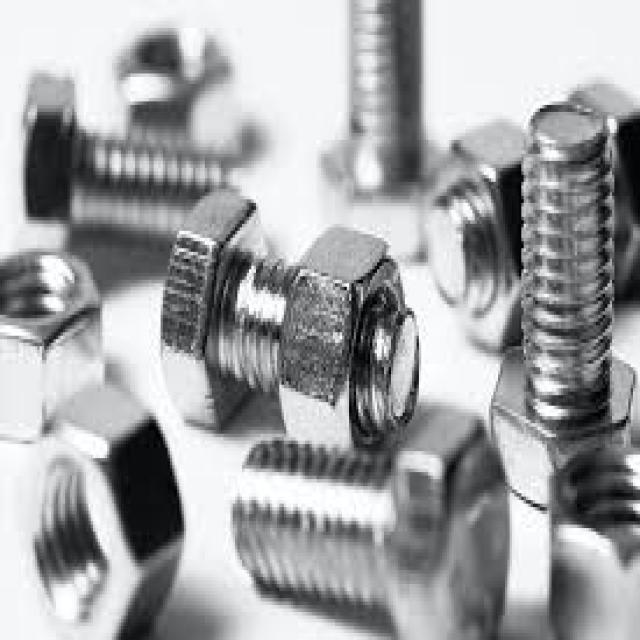Logam: (54, 43, 483, 474)
